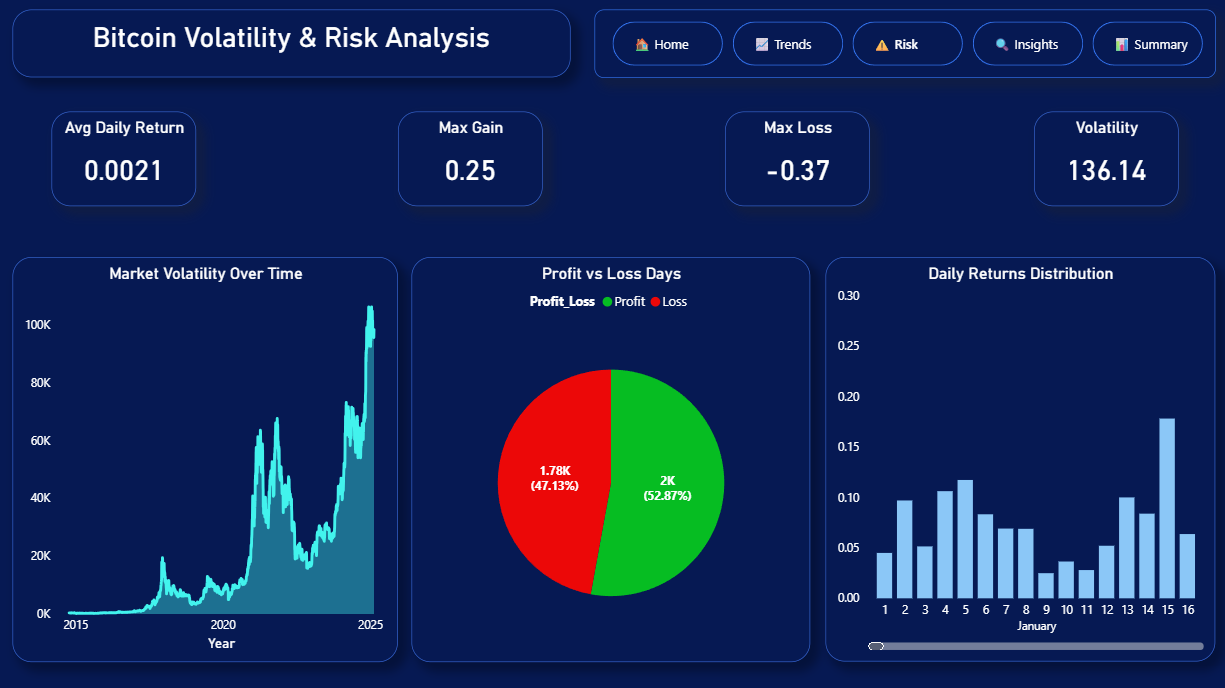

What the dashboard file says about the page in this screenshot:
{"tool":"powerbi","page":{"name":"⚠️ Risk","canvas":[1280,720],"ordinal":2},"visuals":[{"type":"card","title":"Avg Daily Return","fields":{"Values":["Avg(bitcoin_final.Daily_Return)"]},"box":[55.4,116.9,150.8,98.5],"z":0},{"type":"card","title":"Max Gain","fields":{"Values":["Max(bitcoin_final.Daily_Return)"]},"box":[415.4,116.9,150.8,98.5],"z":1000},{"type":"card","title":"Max Loss","fields":{"Values":["Min(bitcoin_final.Daily_Return)"]},"box":[756.9,116.9,150.8,98.5],"z":2000},{"type":"card","title":"Volatility","fields":{"Values":["Sum(bitcoin_final.Volatility)"]},"box":[1078.5,116.9,150.8,98.5],"z":3000},{"type":"clusteredColumnChart","title":"Daily Returns Distribution","fields":{"Category":["bitcoin_final.Date.Variation.Date Hierarchy.Month","bitcoin_final.Date.Variation.Date Hierarchy.Day"],"Y":["Max(bitcoin_final.Daily_Return)"]},"box":[861.5,269.2,406.2,421.5],"z":4000},{"type":"areaChart","title":"Market Volatility Over Time","fields":{"Category":["bitcoin_final.Date.Variation.Date Hierarchy.Year","bitcoin_final.Date.Variation.Date Hierarchy.Quarter","bitcoin_final.Date.Variation.Date Hierarchy.Month","bitcoin_final.Date.Variation.Date Hierarchy.Day"],"Y":["bitcoin_final.Latest Price"]},"box":[14.1,268.8,401.6,421.9],"z":5000},{"type":"pieChart","title":"Profit vs Loss Days","fields":{"Category":["bitcoin_final.Profit_Loss"],"Y":["CountNonNull(bitcoin_final.Daily_Return)"]},"box":[429.7,268.8,415.6,421.9],"z":6000},{"type":"shape","box":[620.6,11.1,647.6,71.4],"z":7000},{"type":"pageNavigator","box":[639.7,23.8,617.5,46],"z":8000},{"type":"textbox","box":[13.8,10.8,581.5,70.8],"z":9000}]}

Visuals, with their boxes in screenshot pixels (x1, y1, x2, y2), scaled from the page's 1280x720 canvas onto the 1225x688 screenshot:
"Avg Daily Return" card: region(53, 112, 197, 206)
"Max Gain" card: region(398, 112, 542, 206)
"Max Loss" card: region(724, 112, 869, 206)
"Volatility" card: region(1032, 112, 1176, 206)
"Daily Returns Distribution" clusteredColumnChart: region(824, 257, 1213, 660)
"Market Volatility Over Time" areaChart: region(13, 257, 398, 660)
"Profit vs Loss Days" pieChart: region(411, 257, 809, 660)
shape: region(594, 11, 1214, 79)
pageNavigator: region(612, 23, 1203, 67)
textbox: region(13, 10, 570, 78)
